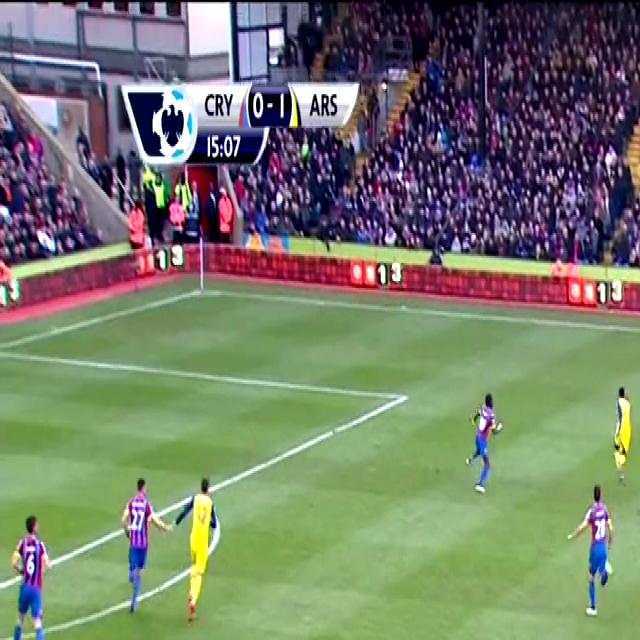soccer-player: (172, 471, 230, 635), (561, 482, 626, 626), (109, 473, 170, 626), (0, 506, 61, 640), (458, 385, 512, 499), (605, 377, 640, 483)
